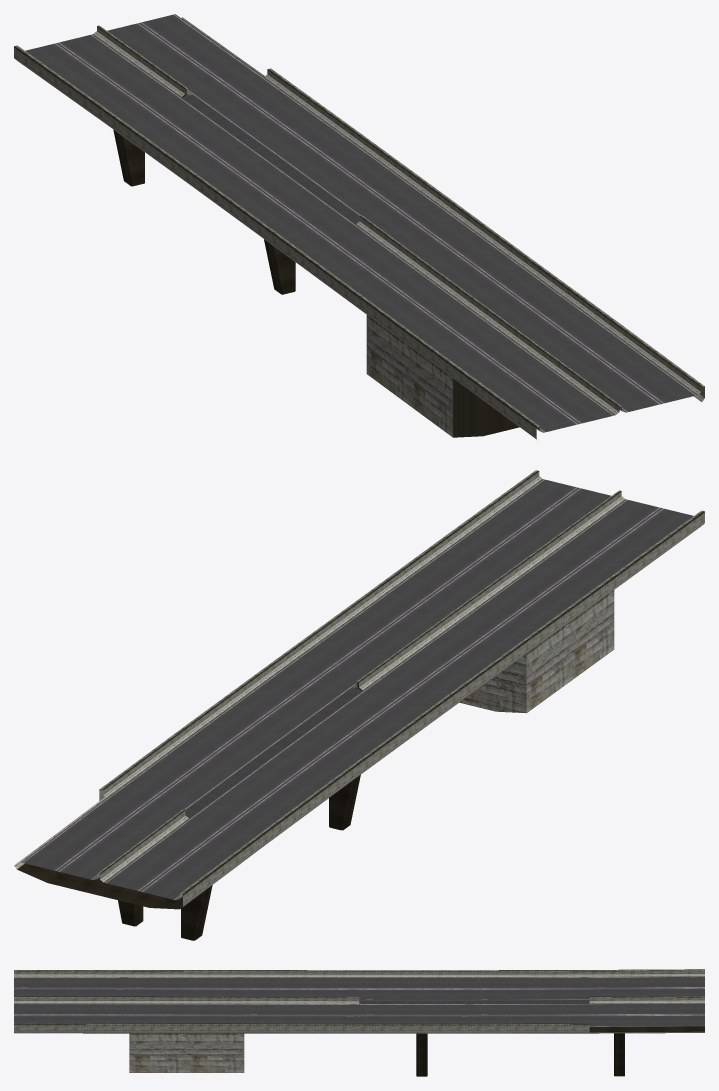
The model's file is roadssfse77.obj.
3 views of the same model, one above another, from view 1: azimuth 30°, elevation 25°; view 2: azimuth 150°, elevation 25°; view 3: azimuth 270°, elevation 25° (orthographic). The views are drawn at different scales.
Visible parts, largest first — view 1: roadsSFSE77; view 2: roadsSFSE77; view 3: roadsSFSE77.
Boxes of the visible parts, x1=… form: roadsSFSE77: x1=14, y1=14, x2=704, y2=439; roadsSFSE77: x1=14, y1=470, x2=704, y2=940; roadsSFSE77: x1=14, y1=969, x2=704, y2=1076.
Bounding box in the file's own units: 28.55 × 16.3 × 151.
3 materials, 3 textured.
